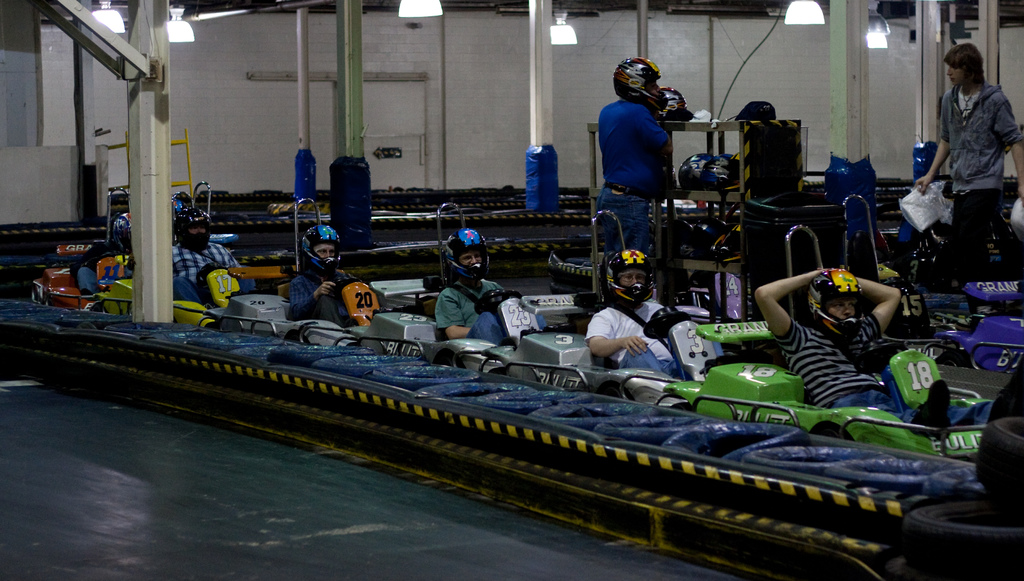Person: (171, 43, 1023, 428)
